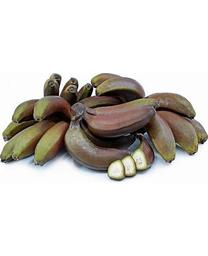banana: (3, 70, 207, 175)
